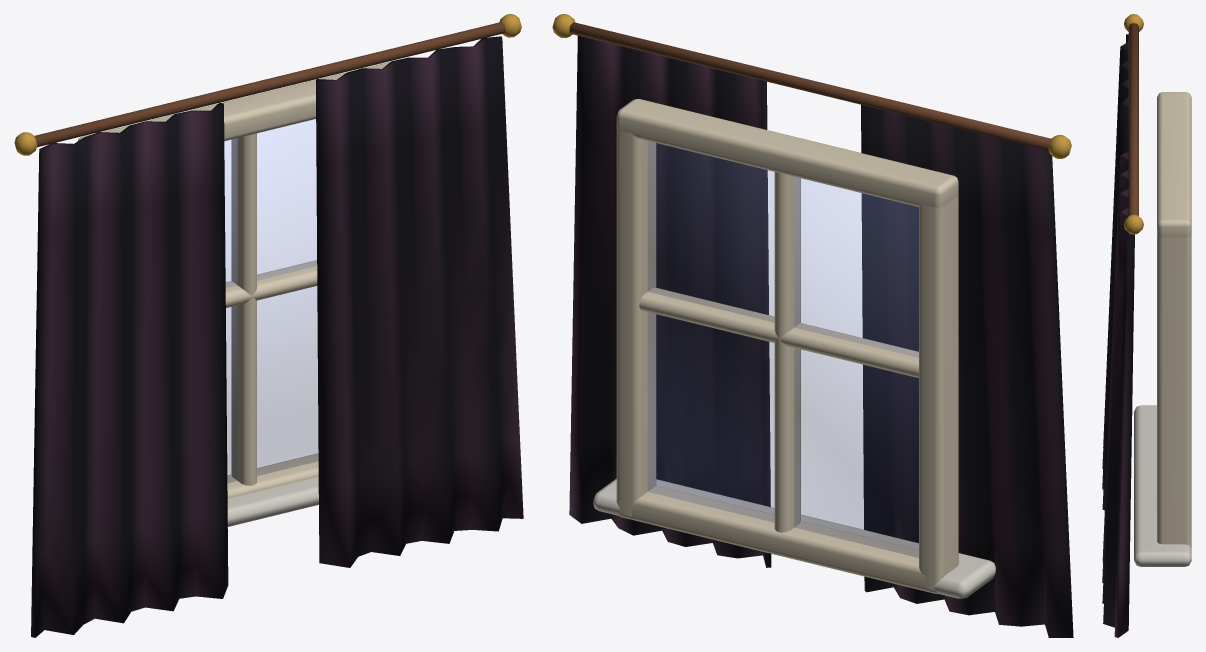
The model's file is window.glb.
3 views of the same model, side by side, from view 1: azimuth 30°, elevation 25°; view 2: azimuth 150°, elevation 25°; view 3: azimuth 270°, elevation 25° (orthographic). The views are drawn at different scales.
Visible parts, largest first — view 1: curtain_L, curtain_R, window, glass; view 2: glass, window, curtain_R, curtain_L; view 3: window, curtain_L, curtain_R.
Part boxes in pixels (x1=…): curtain_L: x1=316, y1=36, x2=523, y2=567; curtain_R: x1=31, y1=103, x2=228, y2=637; window: x1=14, y1=14, x2=521, y2=526; glass: x1=224, y1=119, x2=318, y2=482; glass: x1=648, y1=141, x2=918, y2=557; window: x1=552, y1=14, x2=1071, y2=598; curtain_R: x1=861, y1=104, x2=1073, y2=637; curtain_L: x1=569, y1=35, x2=771, y2=567; window: x1=1124, y1=14, x2=1191, y2=566; curtain_L: x1=1102, y1=150, x2=1134, y2=637; curtain_R: x1=1102, y1=34, x2=1128, y2=510.
Bounding box in the file's own units: 1.71 × 1.61 × 0.3095.
